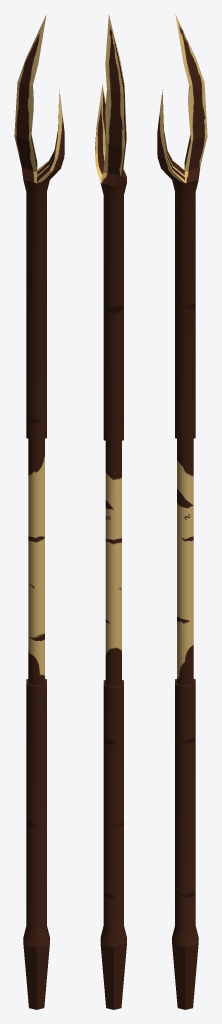
The model's file is Houten Speer.FBX.
3 renders of one model, left to right at view 1: azimuth 90°, elevation 25°; view 2: azimuth 210°, elevation 25°; view 3: azimuth 270°, elevation 25°, orthographic.
Parts seen in each view (by area): view 1: Spear; view 2: Spear; view 3: Spear.
Part boxes in pixels (<box>): Spear: <box>14,15,64,1009</box>; Spear: <box>95,15,126,1009</box>; Spear: <box>157,15,207,1009</box>.
Bounding box in the file's own units: 13.57 × 486 × 22.27.
1 material, 1 textured.
